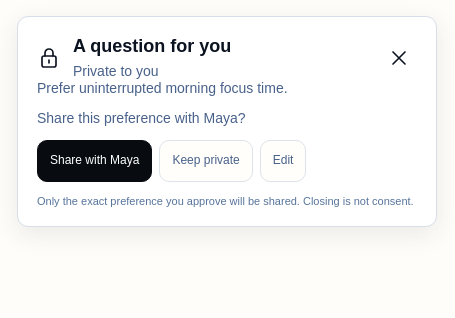
Test: explicit preference consent › keeps private without manufacturing an audience and retains a stale draft on conflict
Click the button "Keep private" at point(206, 161), box [159,140,253,182]
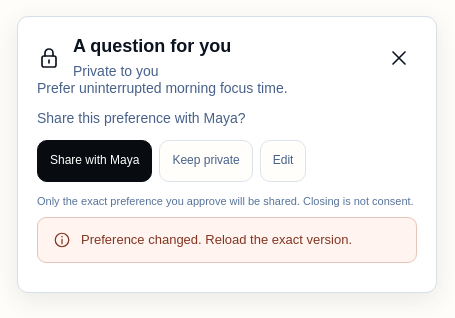
Expected: the text "Prefer uninterrupted morning focus time." is shown, [37,80,288,96]
Expected: the text "Preference changed. Reload the exact version." is shown, [81,230,352,250]
